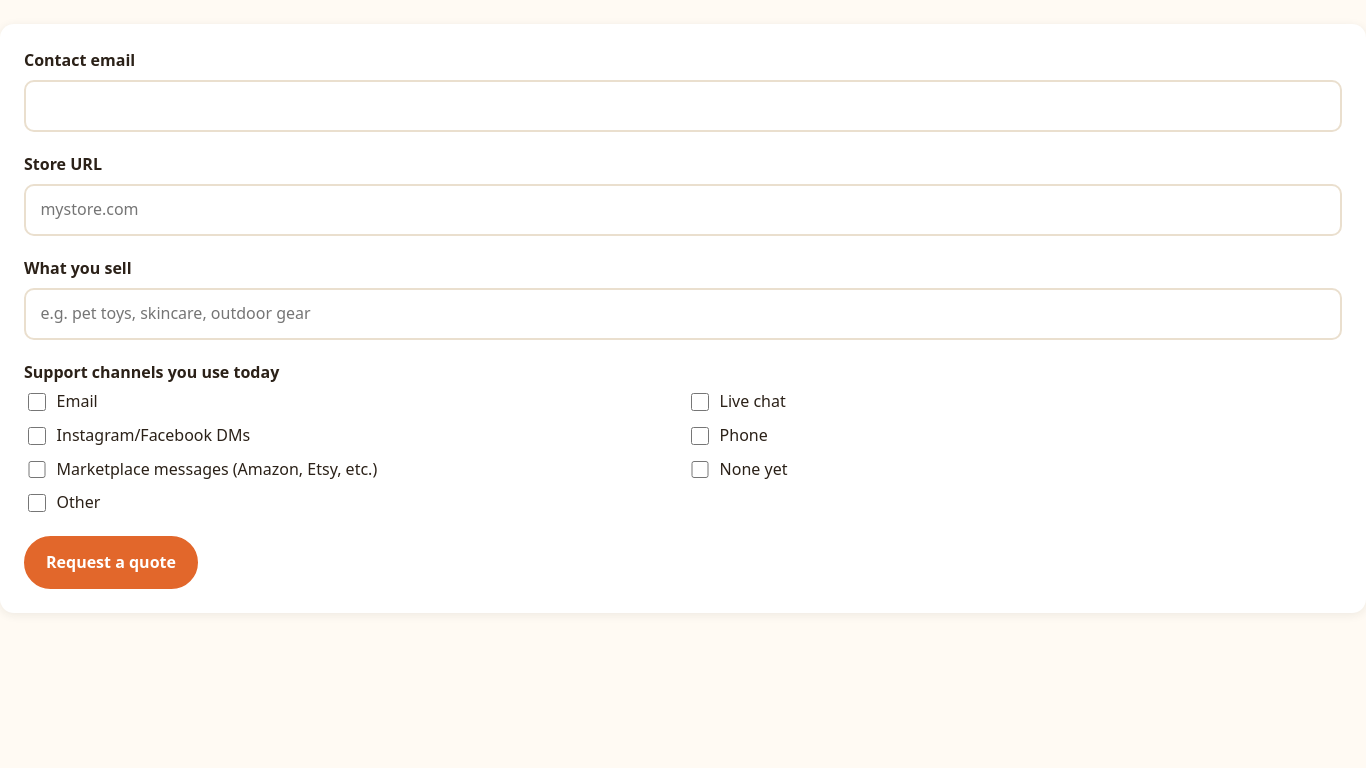
Scenario: QuoteForm › shows an error and keeps the answers when sending fails
This screenshot has width=1366, height=768.
Step 1. Type "  Owner@Shop.com " into the field labelled "Contact email" → [683, 106], box [24,80,1342,132]
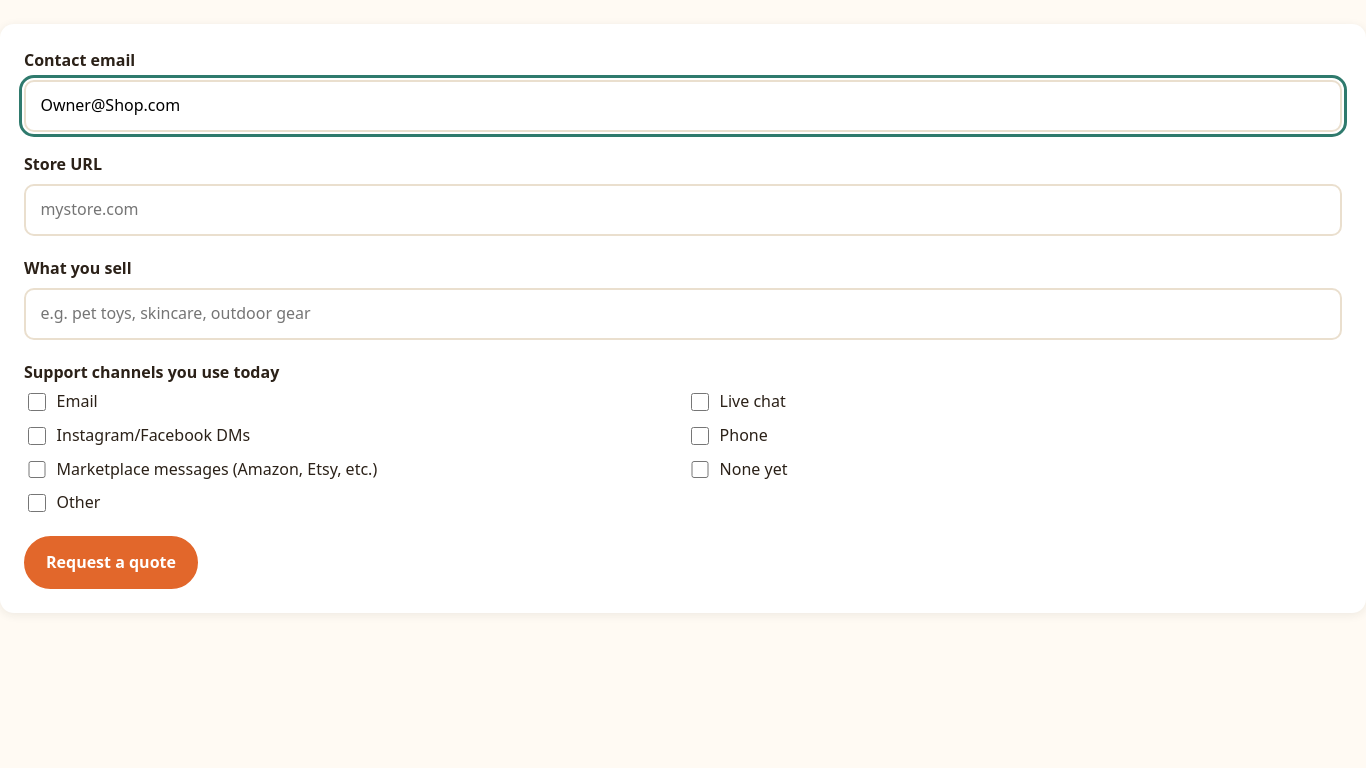
Step 2. Type "myshop.com" into the field labelled "Store URL" → [683, 210], box [24,184,1342,236]
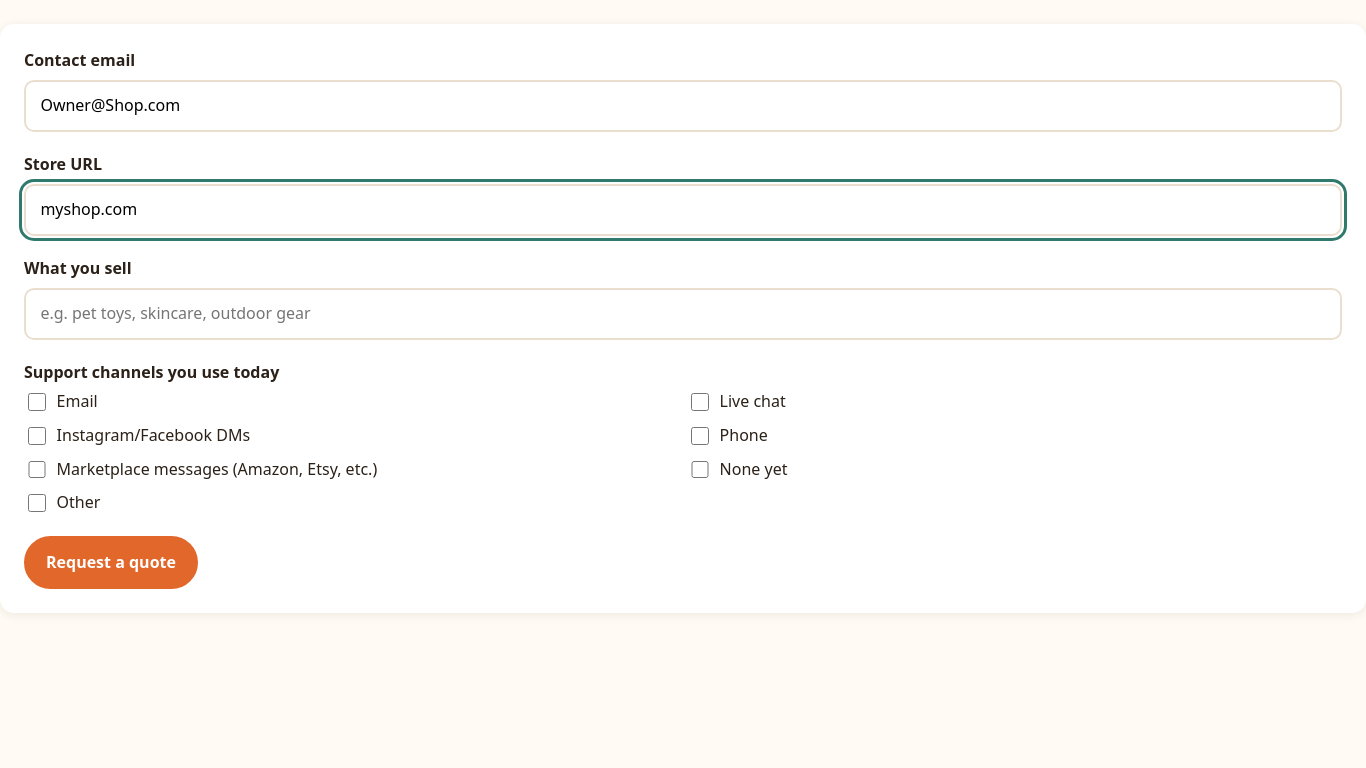
Step 3. Type "Candles" into the field labelled "What you sell" → [683, 314], box [24,288,1342,340]
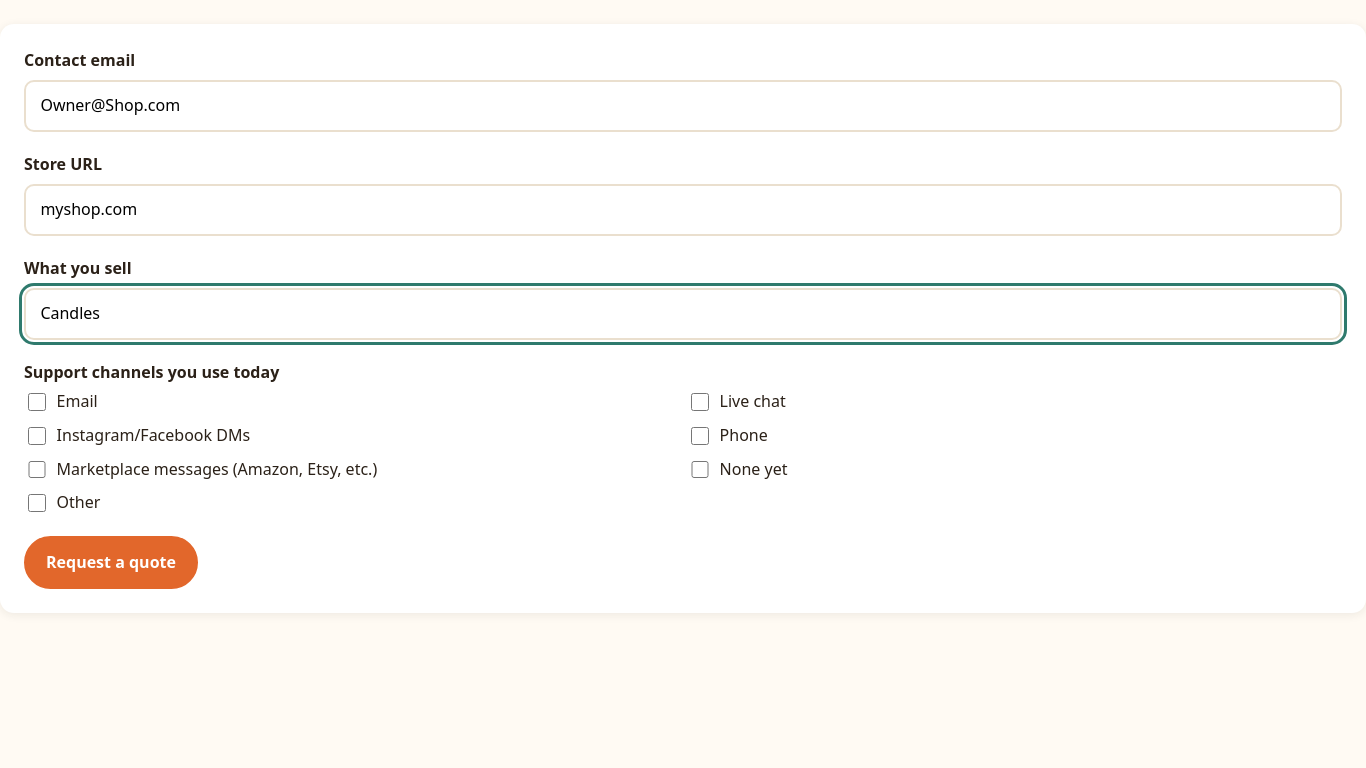
Step 4. Click the checkbox labelled "Email" → [37, 402], box [28,394,46,411]
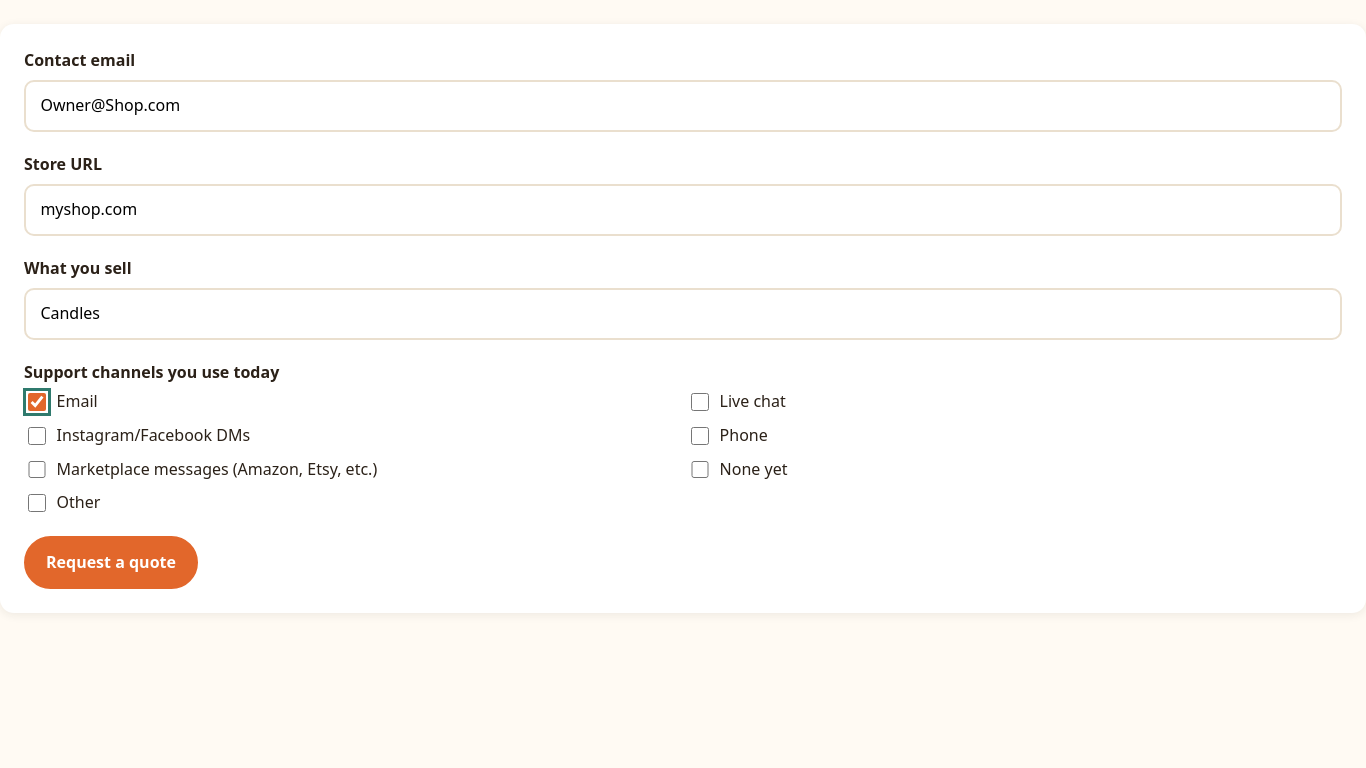
Step 5. Click the checkbox labelled "Live chat" → [700, 402], box [691,394,709,411]
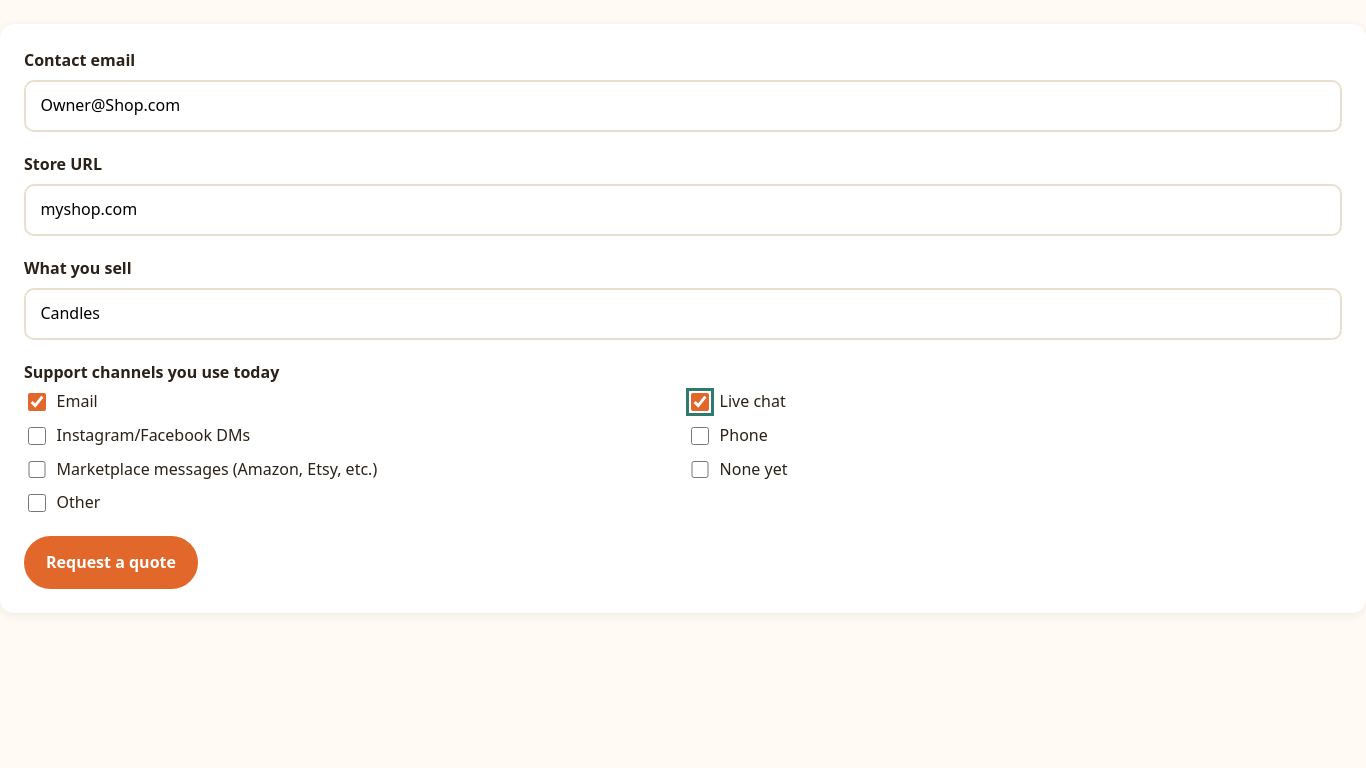
Step 6. Click the button "Request a quote" → [111, 563], box [24,536,198,589]
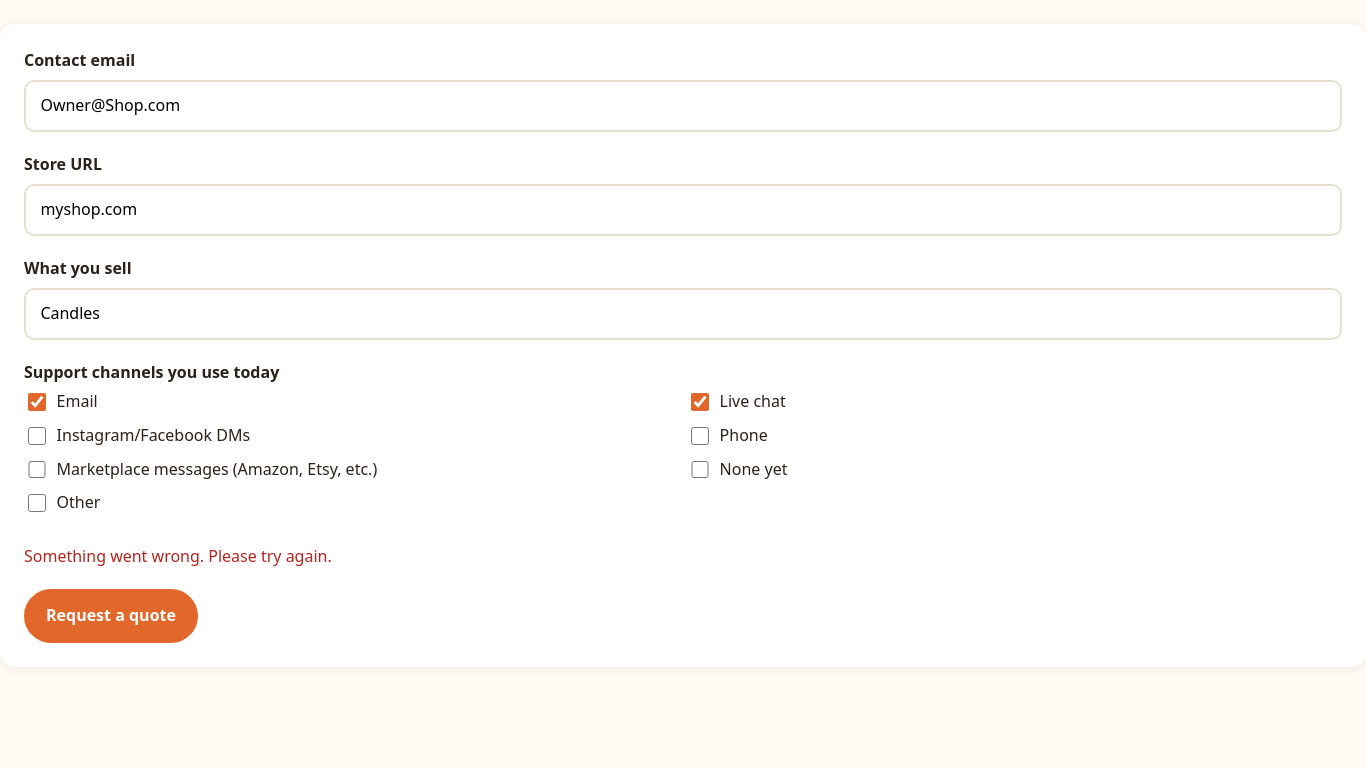
Check: the button "Request a quote" is enabled, box [24,589,198,643]
Check: the checkbox labelled "Email" is checked, box [28,394,46,411]
Check: the message reads "Something went wrong. Please try again.", box [24,545,332,567]
